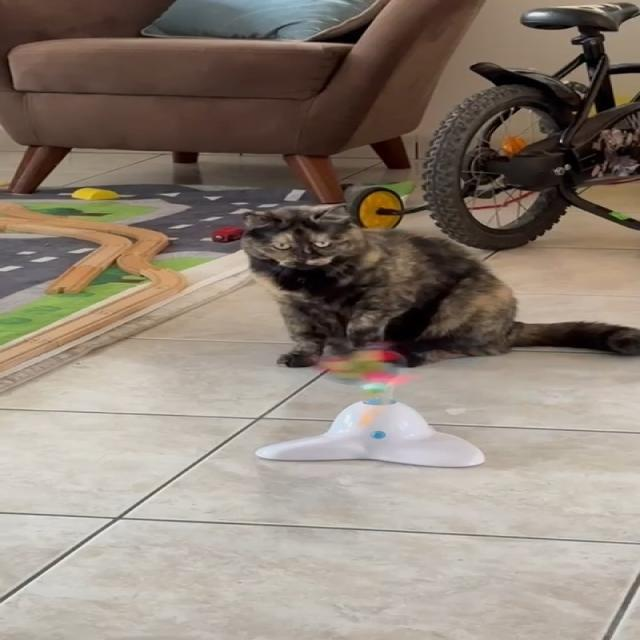authorized: (238, 202, 638, 369)
